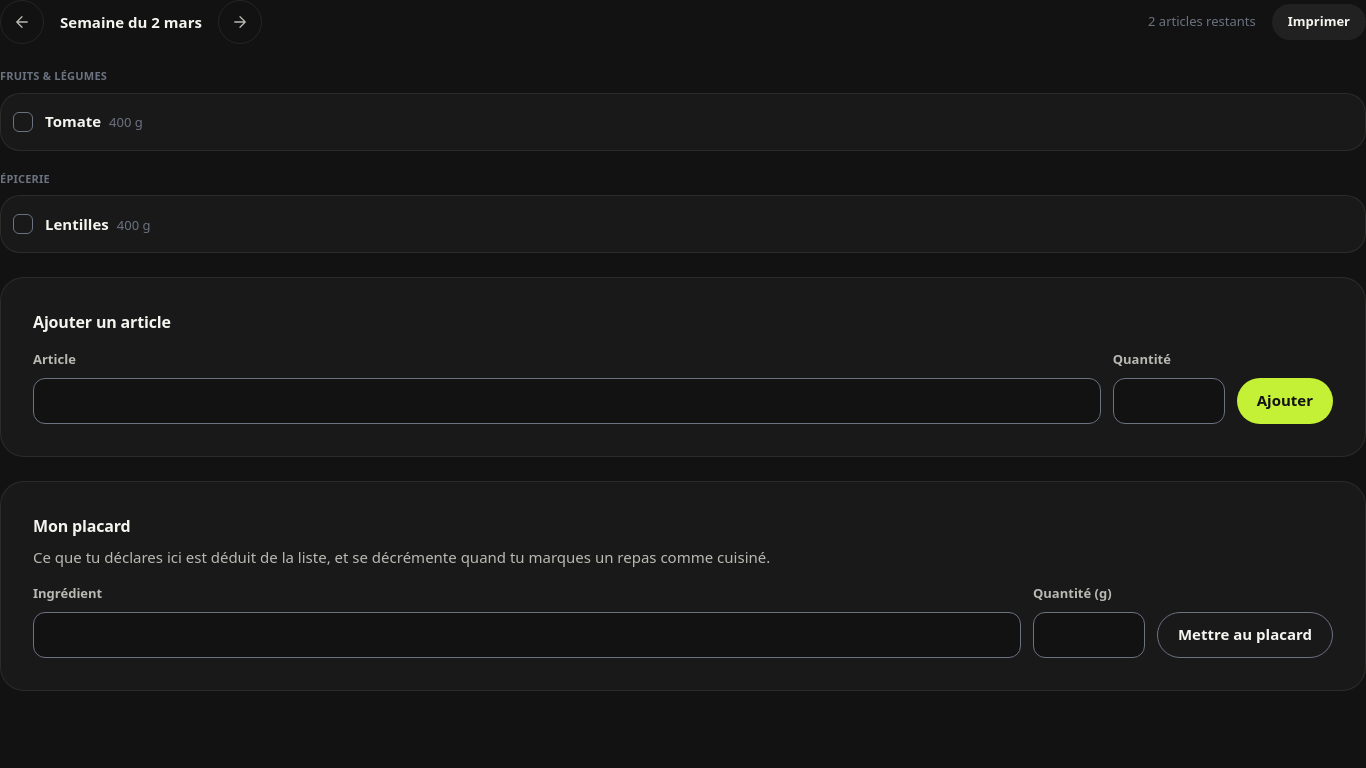
Test: ShoppingList › keeps a tick the server refused, and says it has not been sent
Click the checkbox with test id "item-10" at [82, 224], box [13,214,150,234]
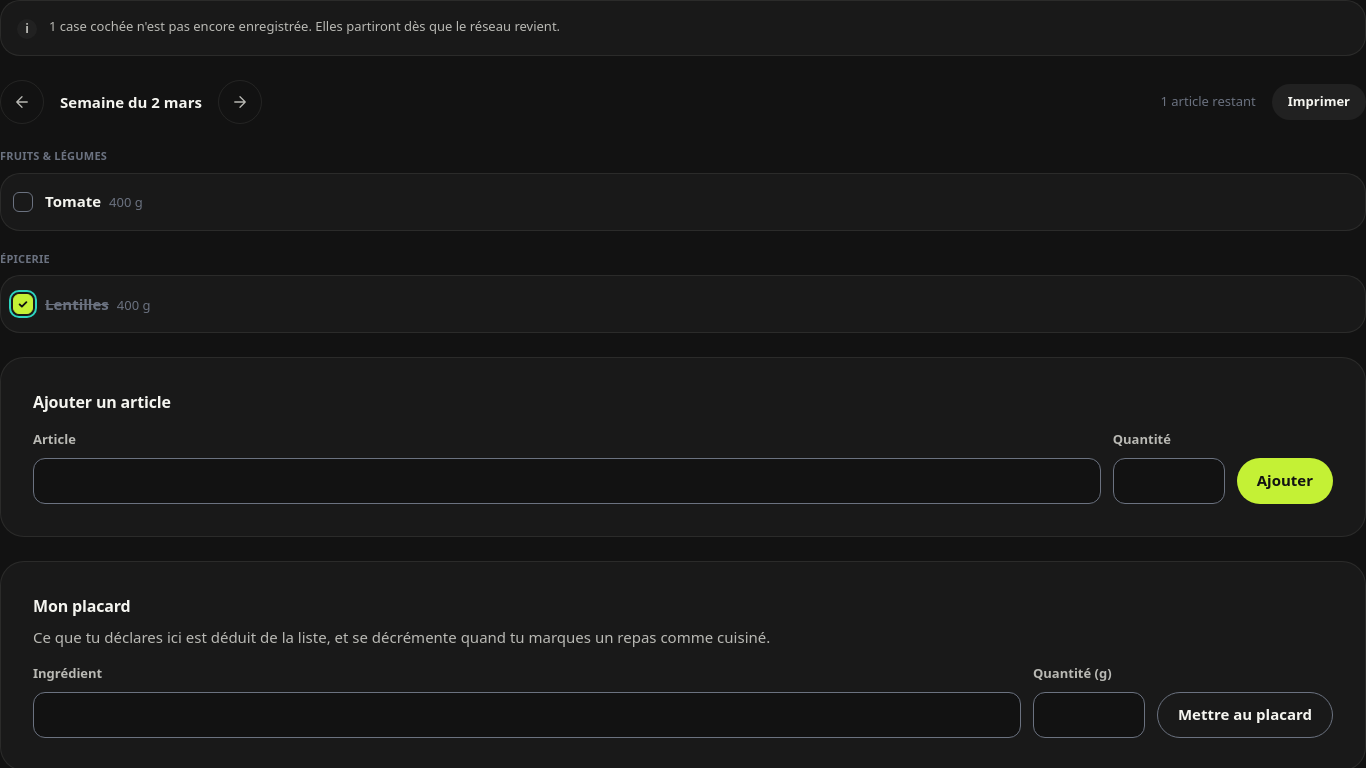
Expected: the message with test id "pending-ticks" shows "n'est pas encore enregistrée", [49,17,560,35]
